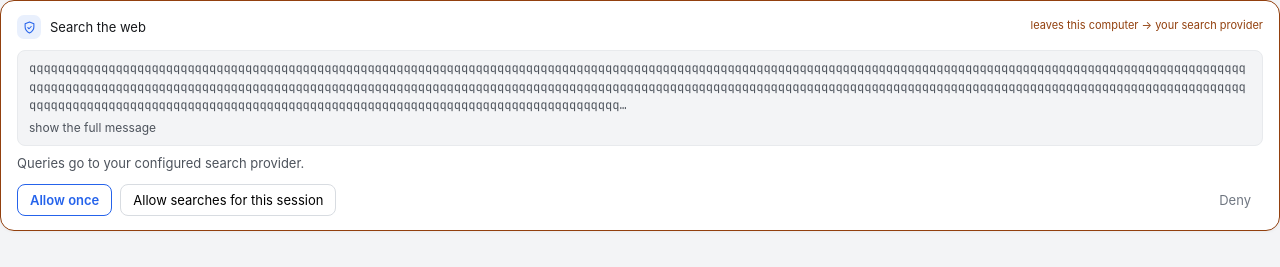
Test: ApprovalCard — honest MCP and egress evidence (OPE-136) › web_search shows the full query in the preview
Click the button "show the full message": (92, 128) [29,119,156,137]
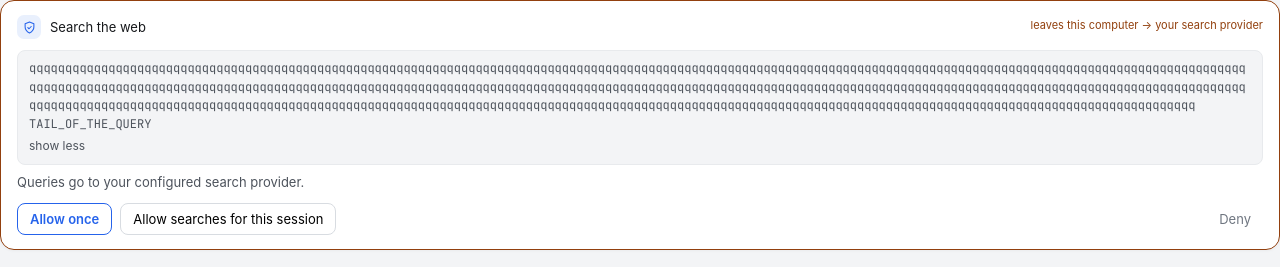
Result: the text "TAIL_OF_THE_QUERY" is shown at [29,60,1246,132]
